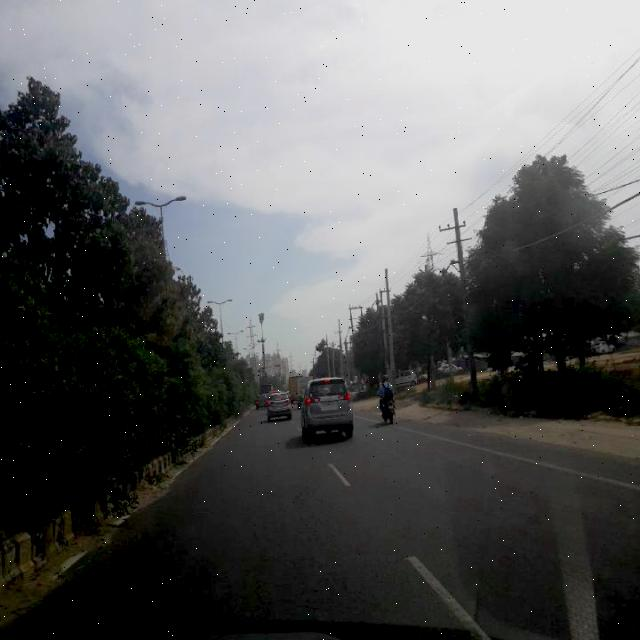D20: (79, 440, 640, 628)
D44: (409, 550, 506, 638)
